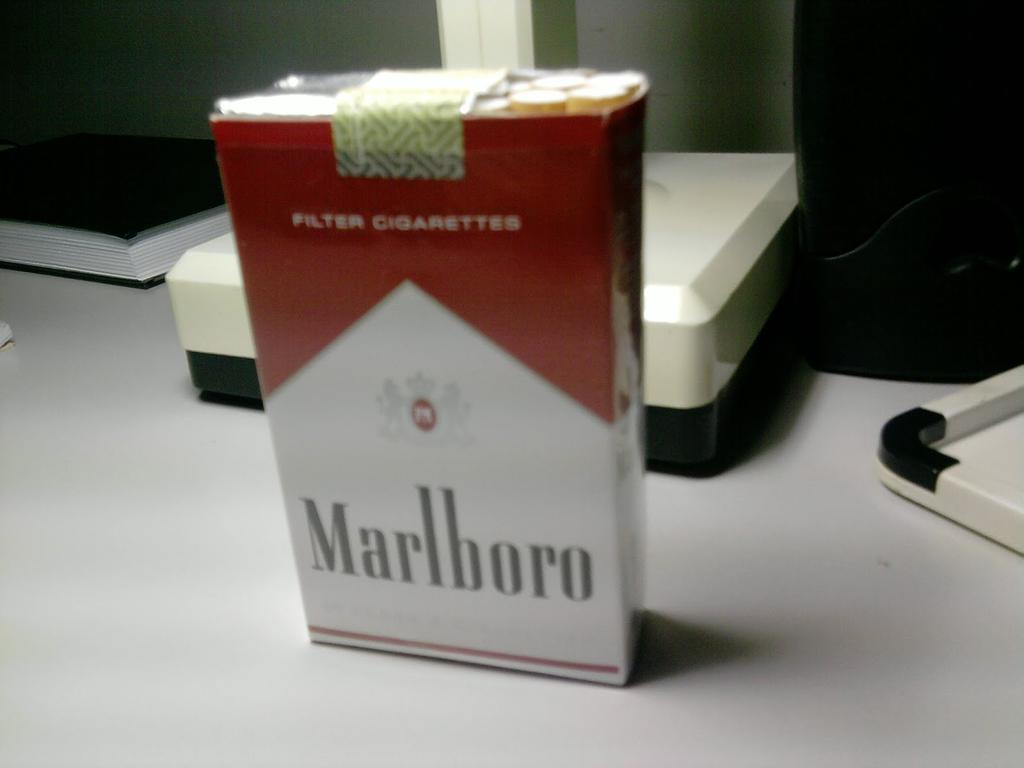marlboro_red: (283, 106, 617, 633)
